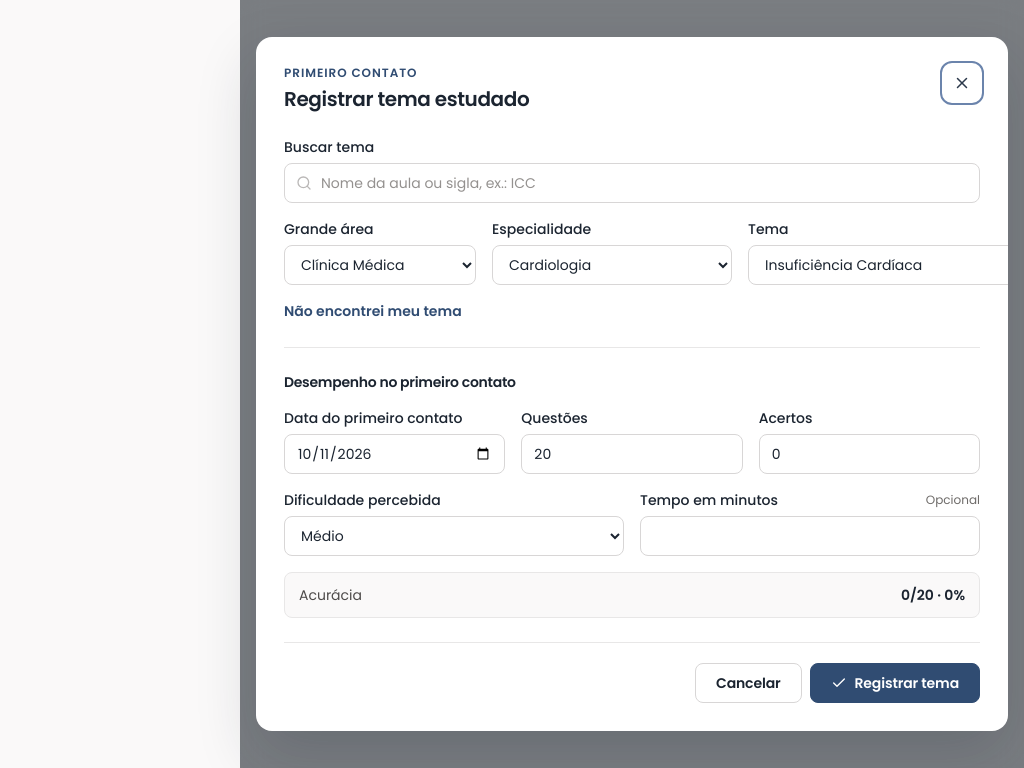
Test: TopicFormModal › refuses a topic the student already registered and points to where to continue it
Check: the dropdown labelled "Tema" shows "Insuficiência Cardíaca", box [748,245,1008,285]
Click the button "Registrar tema" at (895, 683), box [810,663,980,703]
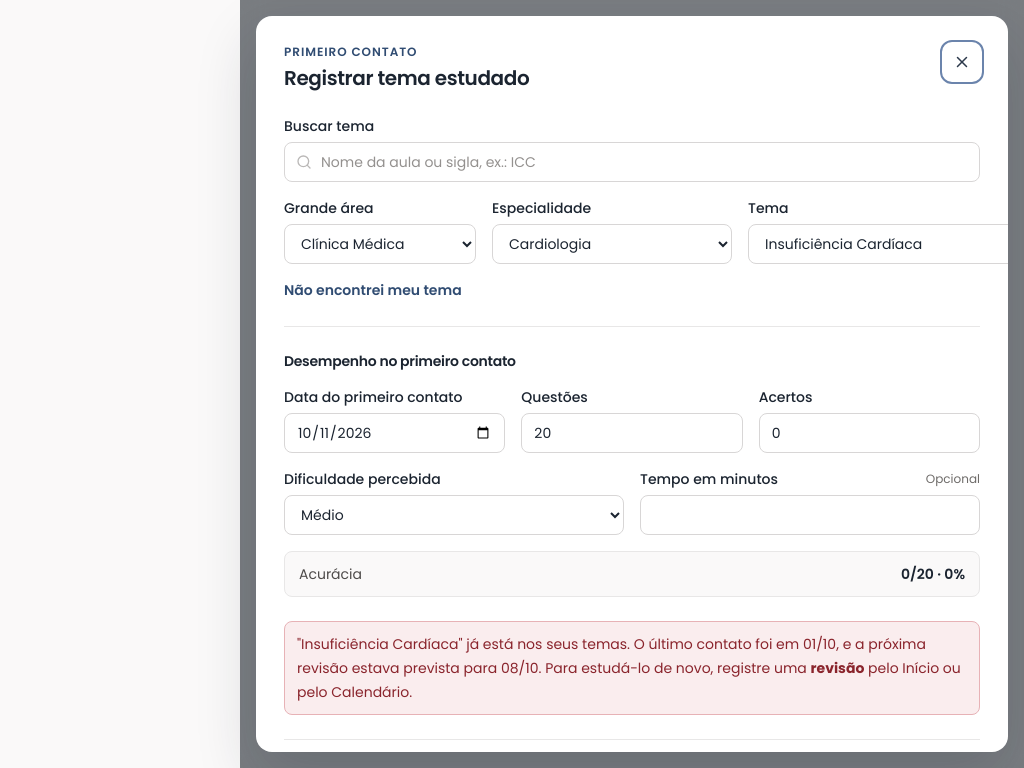
Check: the text "revisão" is shown, box [811,658,864,678]
